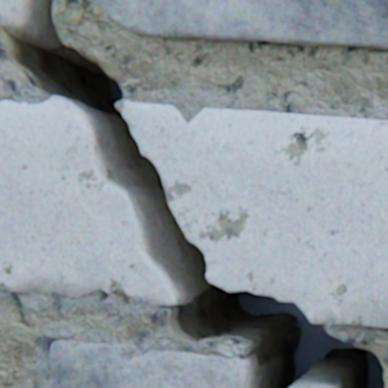brick: (93, 0, 387, 50), (0, 0, 12, 15)
broken_brick: (123, 102, 387, 327), (0, 101, 177, 305), (50, 340, 248, 387), (289, 385, 326, 387)
crack: (0, 0, 387, 387)
